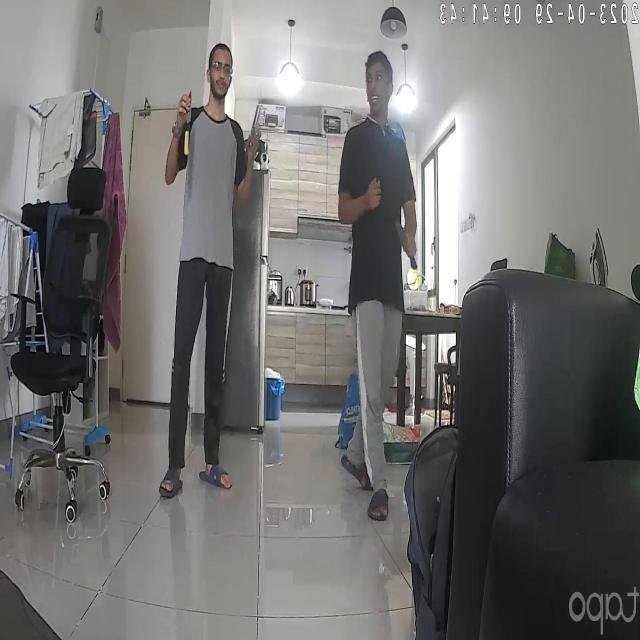Knife: (174, 94, 200, 163), (392, 224, 423, 274), (246, 101, 272, 152)
